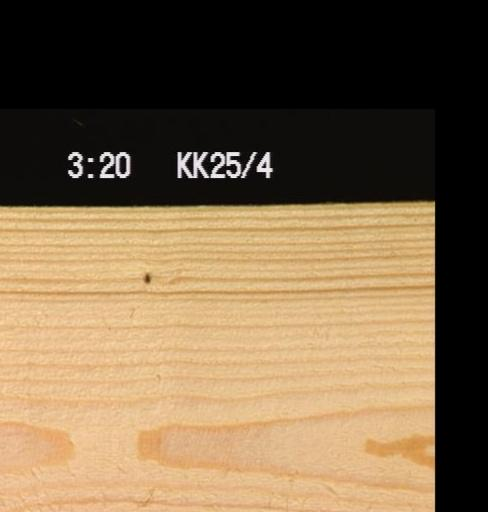small_knot: (140, 268, 151, 284)
